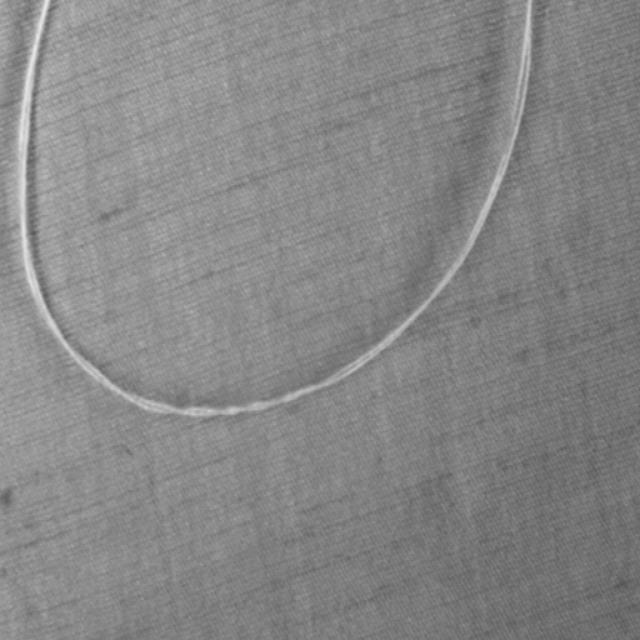Thread: (14, 0, 537, 425)
